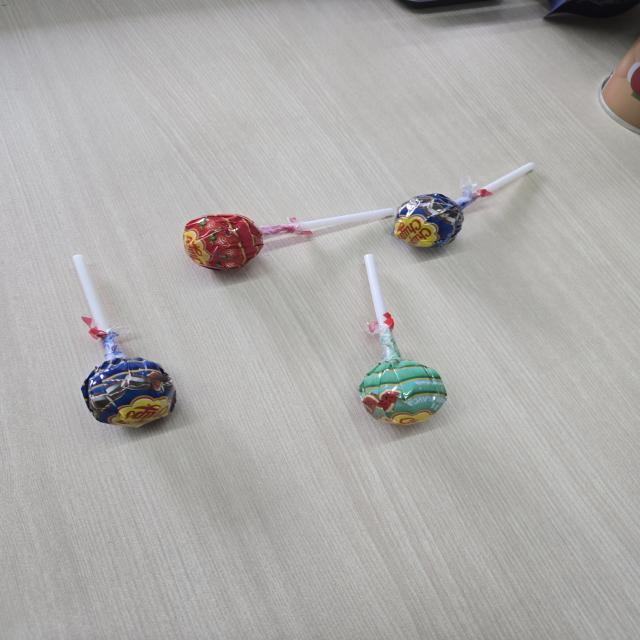lollipop: (70, 250, 180, 434), (355, 250, 452, 432), (182, 203, 400, 276), (392, 158, 538, 257)
